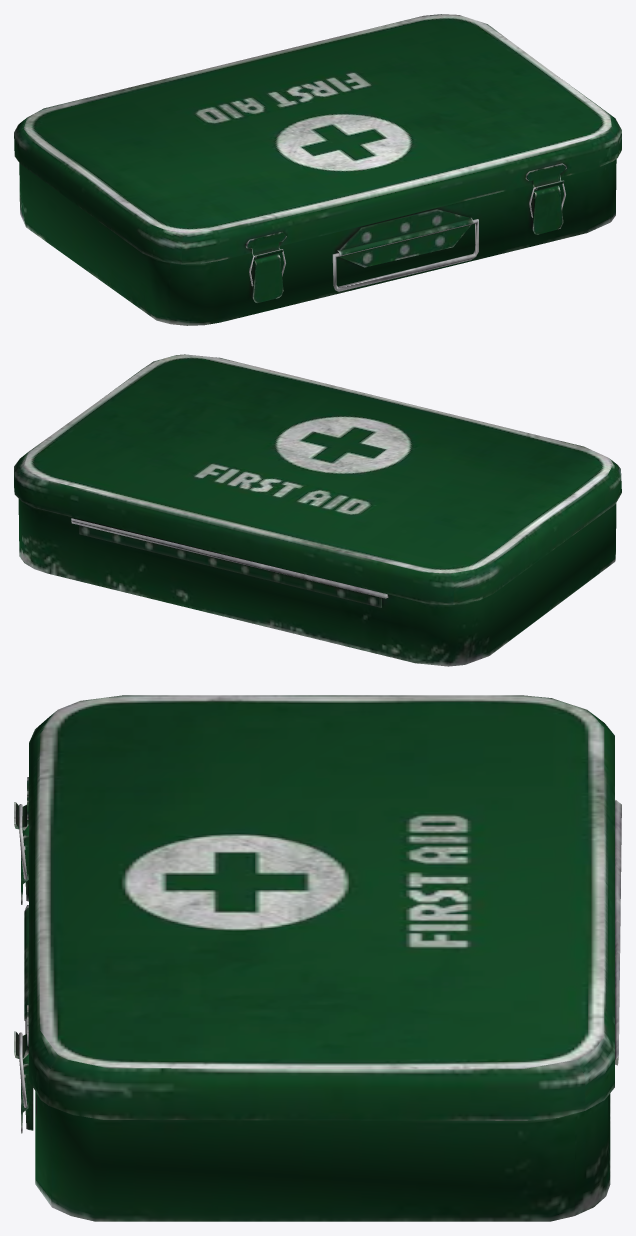
File: medical_box.glb
The picture shows the model from 3 angles, top to bottom: view 1: azimuth 30°, elevation 25°; view 2: azimuth 150°, elevation 25°; view 3: azimuth 270°, elevation 25°; orthographic projection. The views are drawn at different scales.
Visible parts, largest first — view 1: medical_box_lid, medical_box, medical_box_latch, medical_box_handle; view 2: medical_box_lid, medical_box; view 3: medical_box_lid, medical_box.
Boxes of the visible parts, x1,y1,x2,y2 form: medical_box_lid: [14, 14, 621, 264]; medical_box: [19, 159, 616, 325]; medical_box_latch: [252, 185, 563, 302]; medical_box_handle: [332, 219, 478, 291]; medical_box_lid: [14, 354, 621, 604]; medical_box: [18, 499, 616, 666]; medical_box_lid: [14, 695, 614, 1120]; medical_box: [24, 800, 621, 1221].
Size of the model in its own units: 0.5255 by 0.0967 by 0.3501.
1 material, 1 textured.
